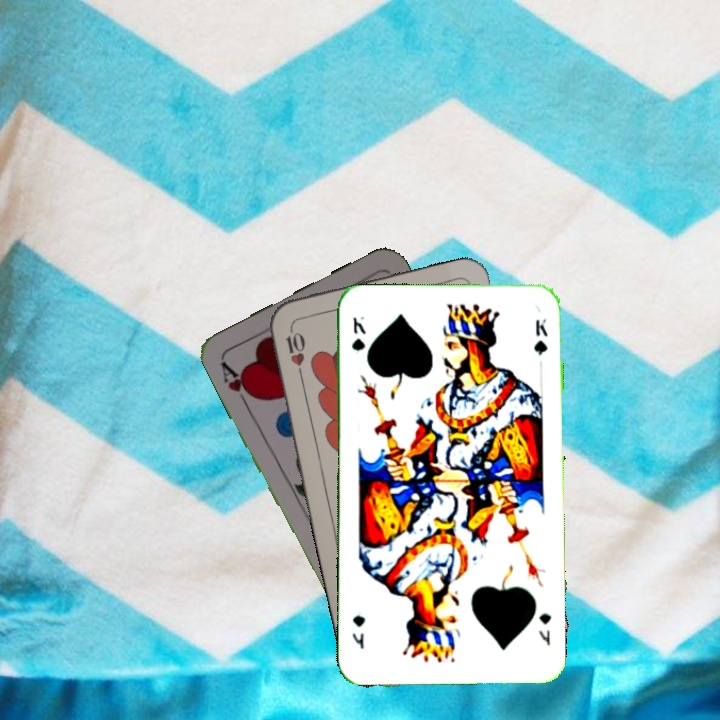GK: (348, 313, 369, 354), (535, 609, 554, 648)
H10: (282, 321, 307, 381)
HA: (216, 354, 259, 409)
